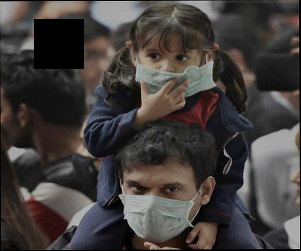with_mask: (123, 178, 197, 242), (138, 46, 204, 98)
